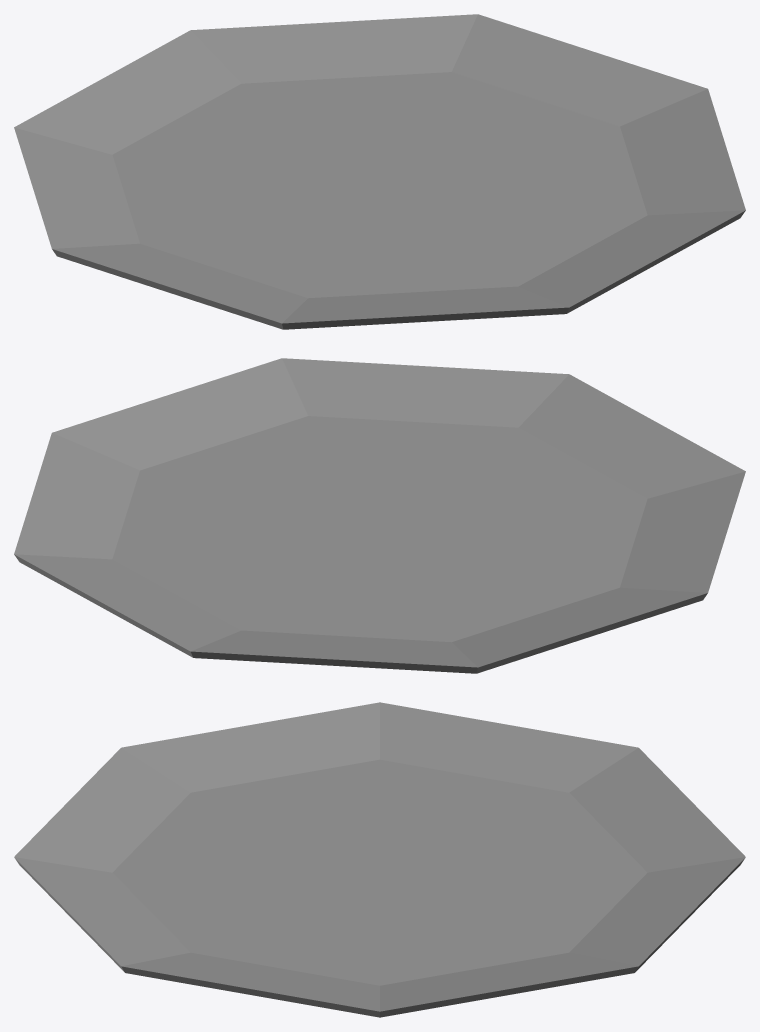
Rendered from IronPlate.fbx.
3 renders of one model, top to bottom at view 1: azimuth 30°, elevation 25°; view 2: azimuth 150°, elevation 25°; view 3: azimuth 270°, elevation 25°, orthographic. The views are drawn at different scales.
Parts seen in each view (by area): view 1: IronPlate; view 2: IronPlate; view 3: IronPlate.
Part boxes in pixels (x1,y1,x2,y2): IronPlate: (14, 14, 745, 329); IronPlate: (14, 358, 745, 673); IronPlate: (14, 702, 745, 1017).
Size of the model in its own units: 30.72 by 2.18 by 30.72.
1 material, 1 textured.
